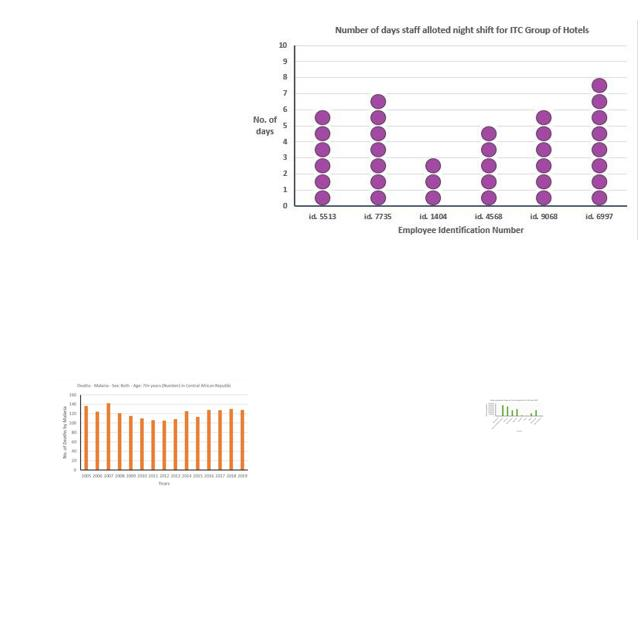Graph: (242, 20, 638, 240), (57, 379, 253, 489), (484, 398, 544, 433)
